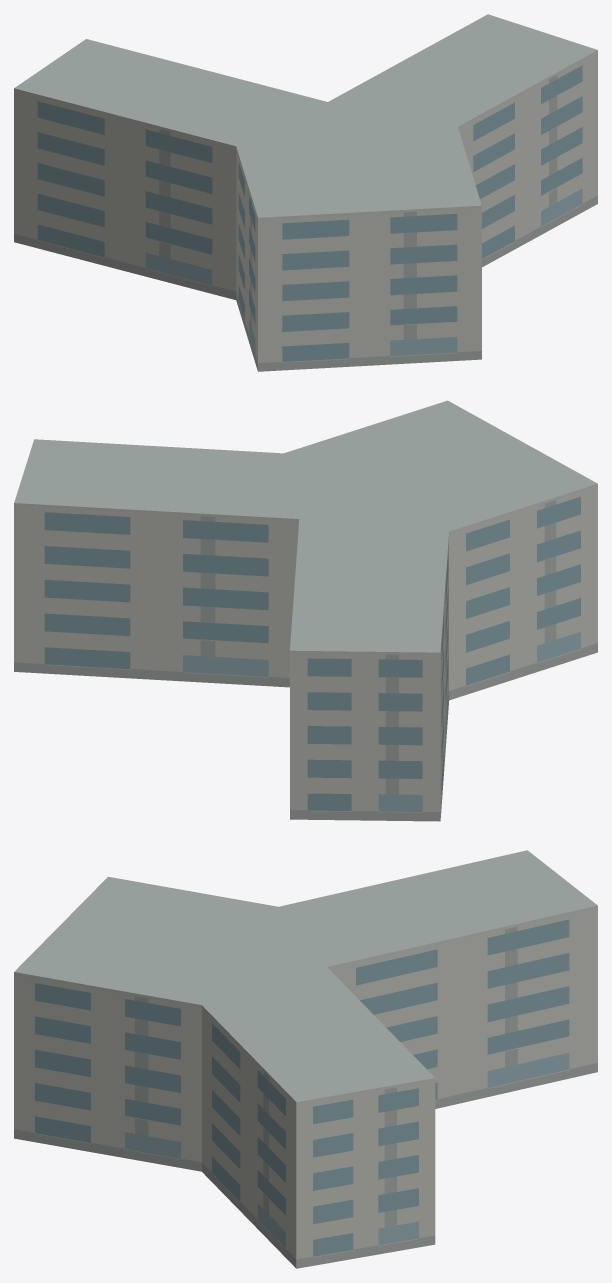
File: residential-508d64da-abac-4e3d-8481-cea426bf4fc9.glb
3 renders of one model, top to bottom at view 1: azimuth 30°, elevation 25°; view 2: azimuth 150°, elevation 25°; view 3: azimuth 270°, elevation 25°, orthographic. The views are drawn at different scales.
Parts seen in each view (by area): view 1: residential-508d64da-abac-4e3d-8481-cea426bf4fc9.tmp; view 2: residential-508d64da-abac-4e3d-8481-cea426bf4fc9.tmp; view 3: residential-508d64da-abac-4e3d-8481-cea426bf4fc9.tmp.
Boxes of the visible parts, bbox=[...] form: residential-508d64da-abac-4e3d-8481-cea426bf4fc9.tmp: bbox=[14, 14, 597, 371]; residential-508d64da-abac-4e3d-8481-cea426bf4fc9.tmp: bbox=[14, 400, 597, 821]; residential-508d64da-abac-4e3d-8481-cea426bf4fc9.tmp: bbox=[14, 850, 597, 1268].
Size of the model in its own units: 49.49 by 15.25 by 48.46.
